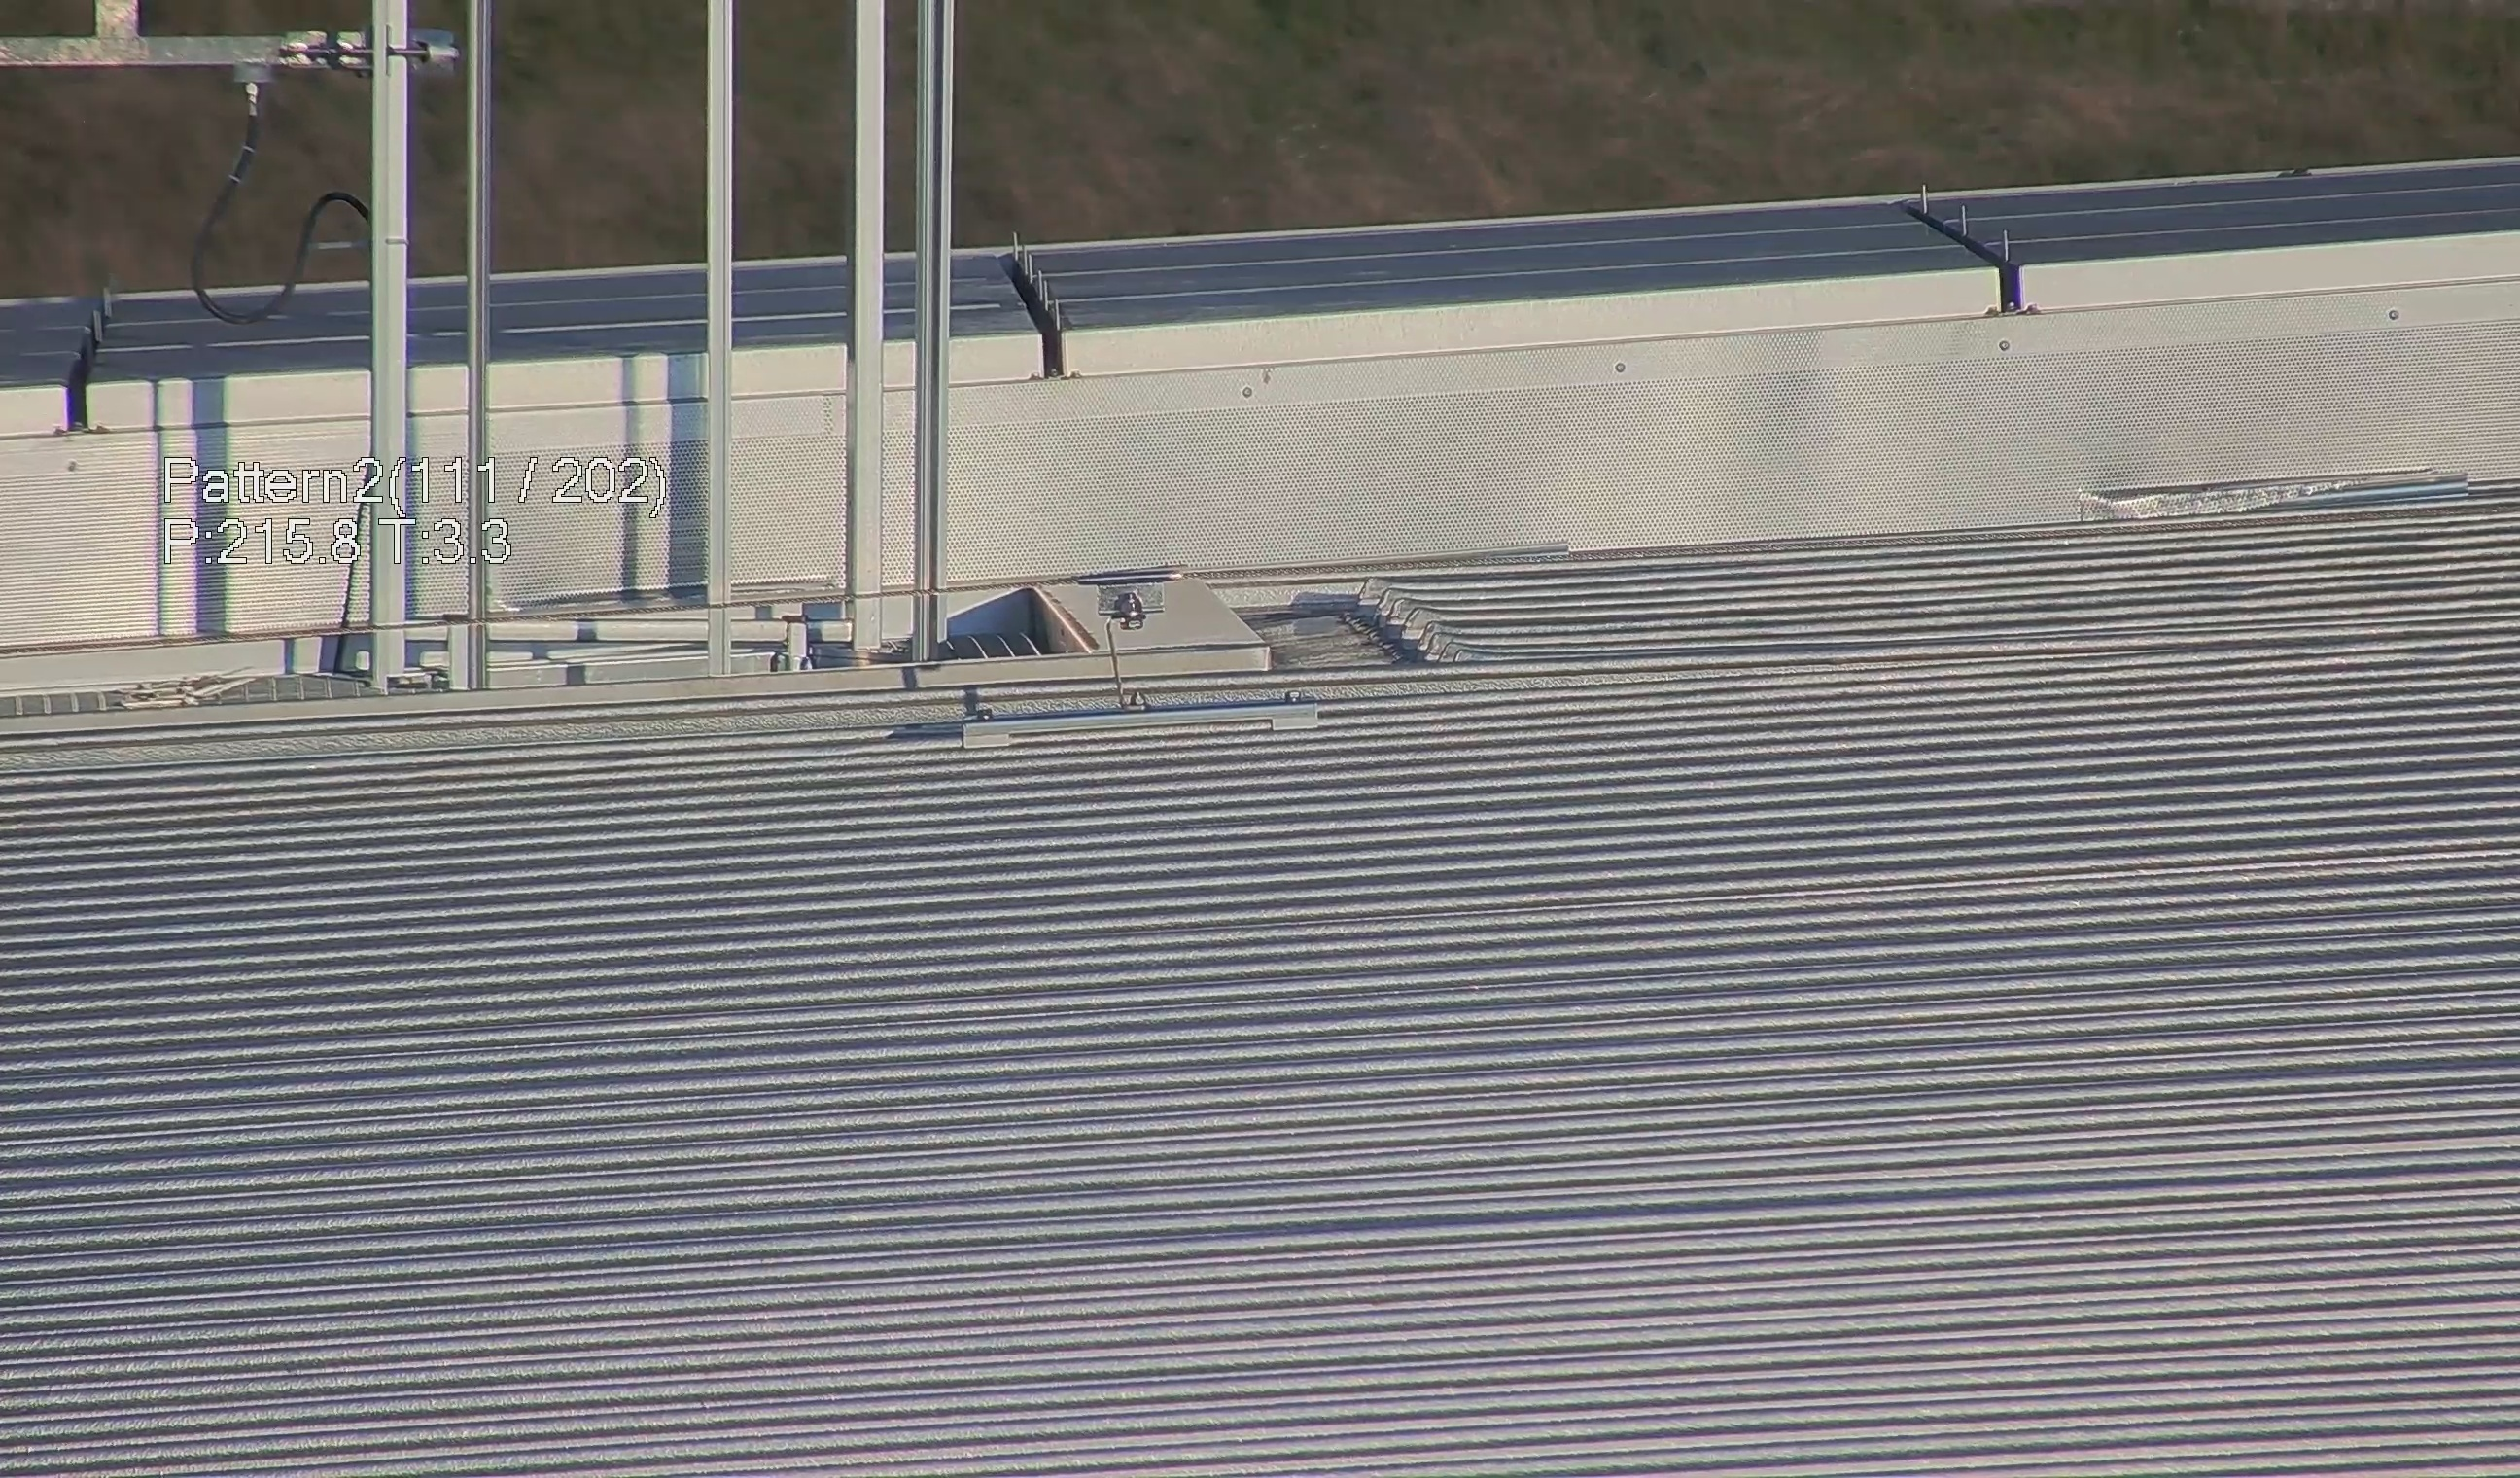Other: (972, 238, 1083, 387)
